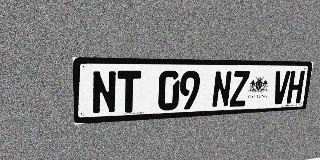0: (157, 71, 180, 111)
9: (179, 71, 201, 110)
H: (286, 71, 305, 104)
N: (91, 70, 117, 115), (211, 71, 232, 108)
T: (117, 71, 141, 113)
V: (271, 71, 291, 105)
Z: (229, 71, 250, 107)
